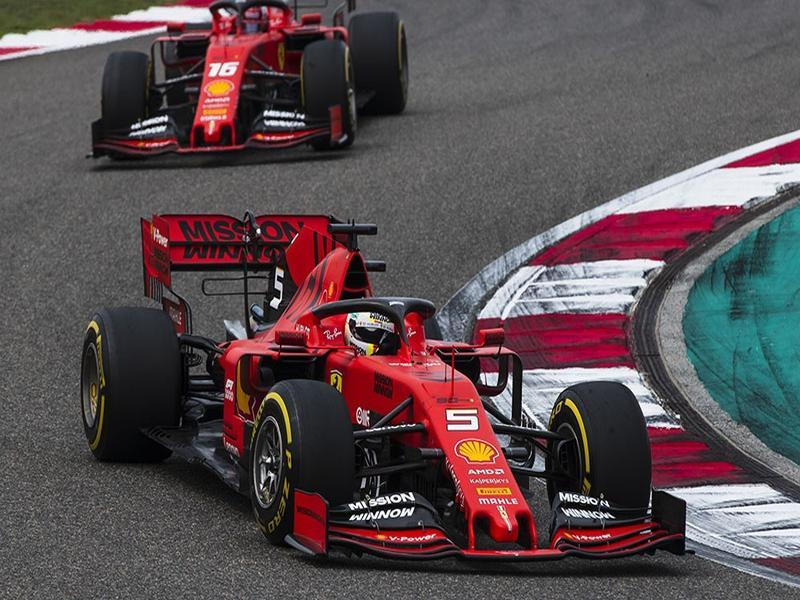f1: (76, 199, 692, 574), (84, 8, 425, 167)
